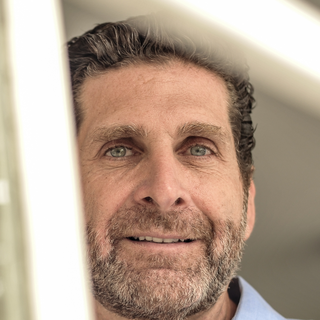eye: (92, 139, 145, 166), (171, 138, 221, 163)
